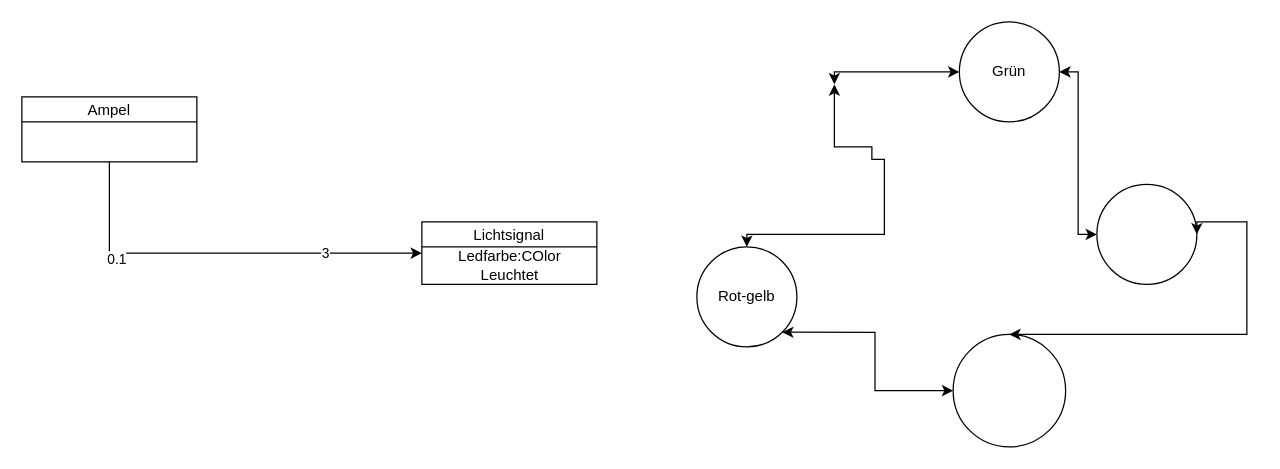
Some shapes in this 1280 by 469 pixel diagram are drawn without their labels. The centre of each missing label's shape, as x and y in pixels:
Gelb: pixel 1146 233
Rot: pixel 1009 390
